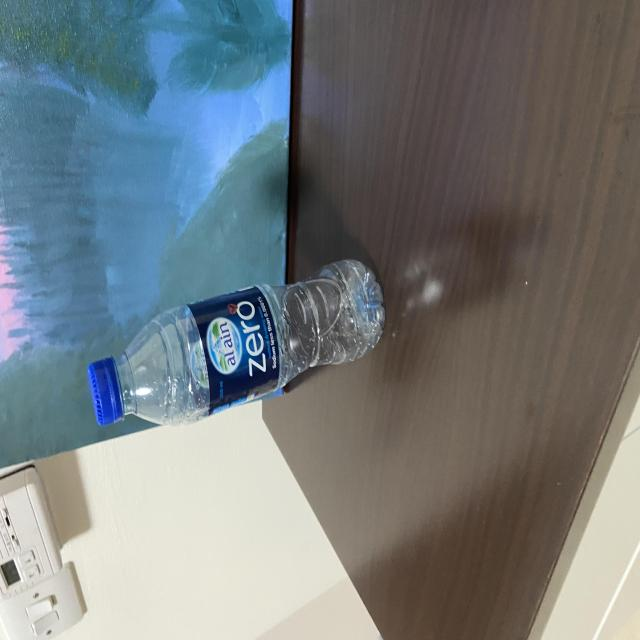plastic: (82, 254, 386, 435)
